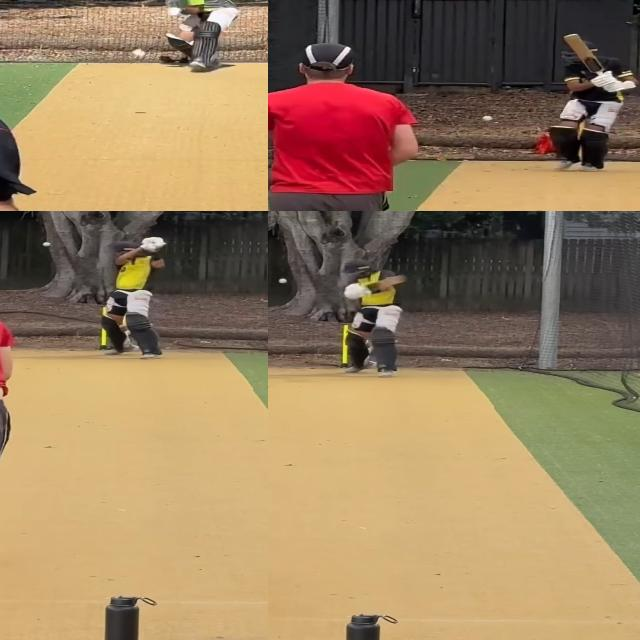Cricket ball: (129, 47, 149, 59), (277, 277, 289, 285), (481, 115, 493, 122), (41, 241, 53, 248)
